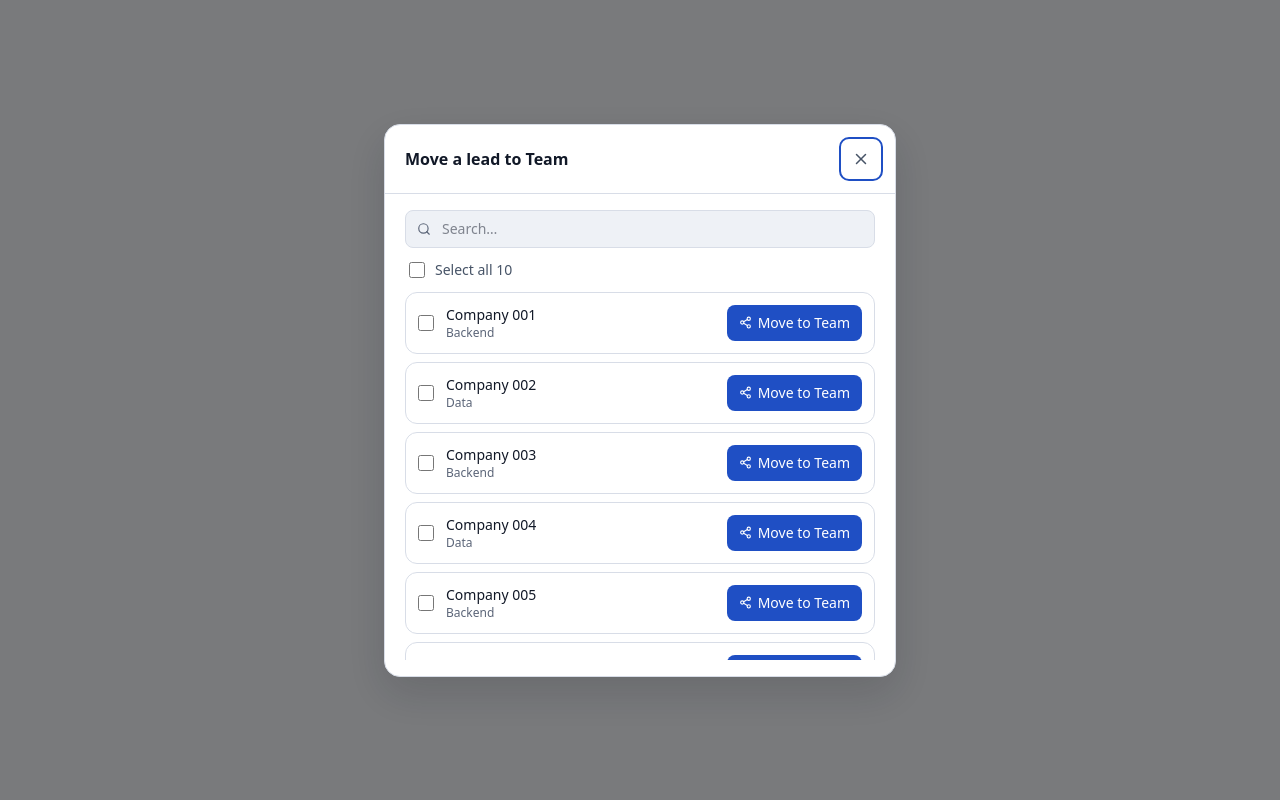
Test: SharePicker: choosing several › ticks survive searching, and "Clear" removes them
Click the checkbox named "Select Company 002". click: [426, 392]
box: [418,384,434,400]
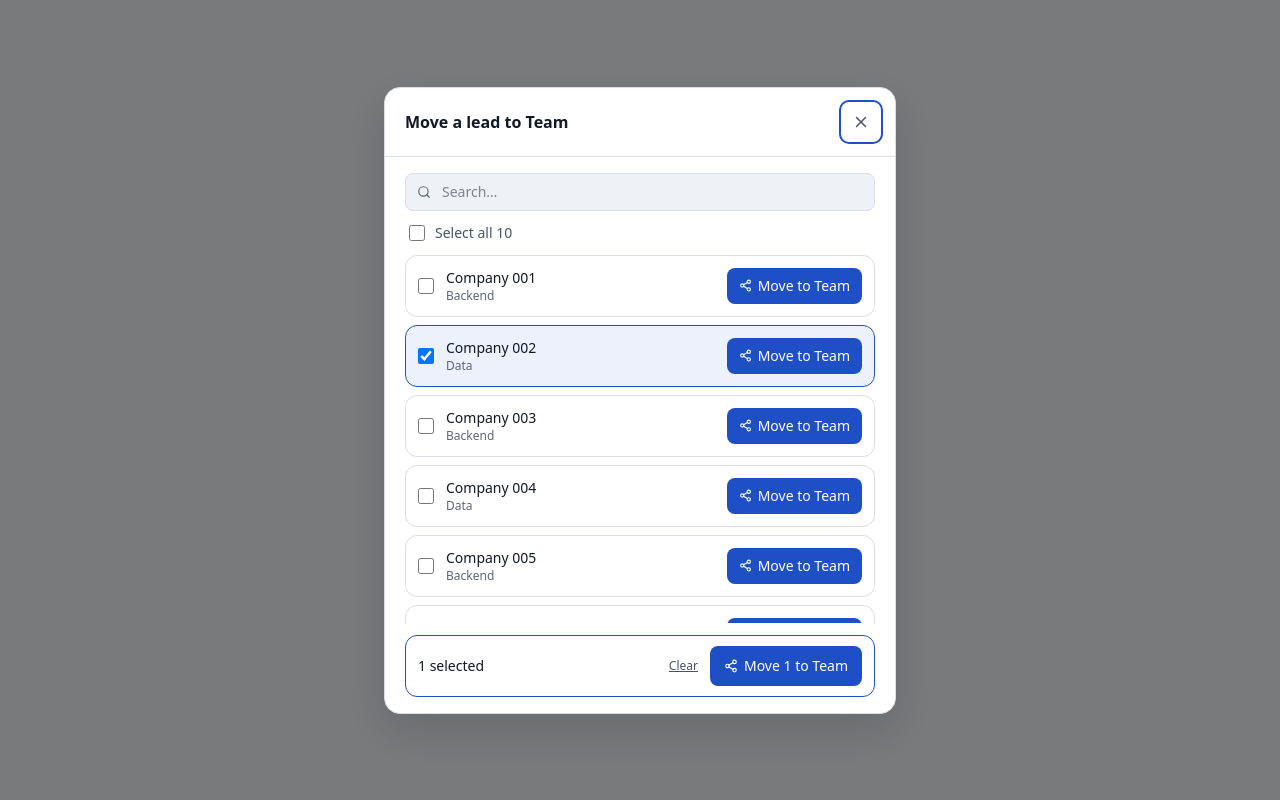
Type "company 009" into the field named "Search records to move". click: [640, 192]
box: [405,172,875,210]
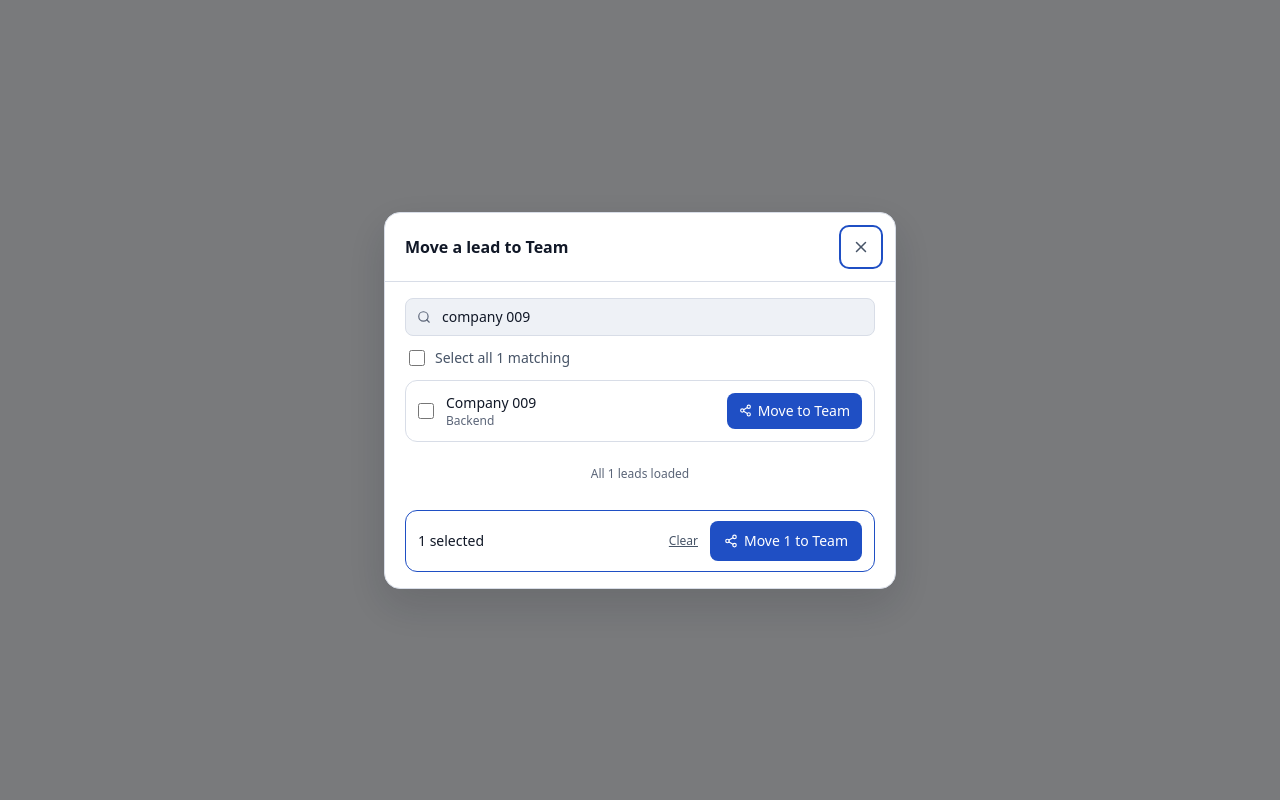
Now the message reads "1 selected", box [418,530,484,550]
Click the button "Clear". click: [683, 540]
box: [669,532,698,548]
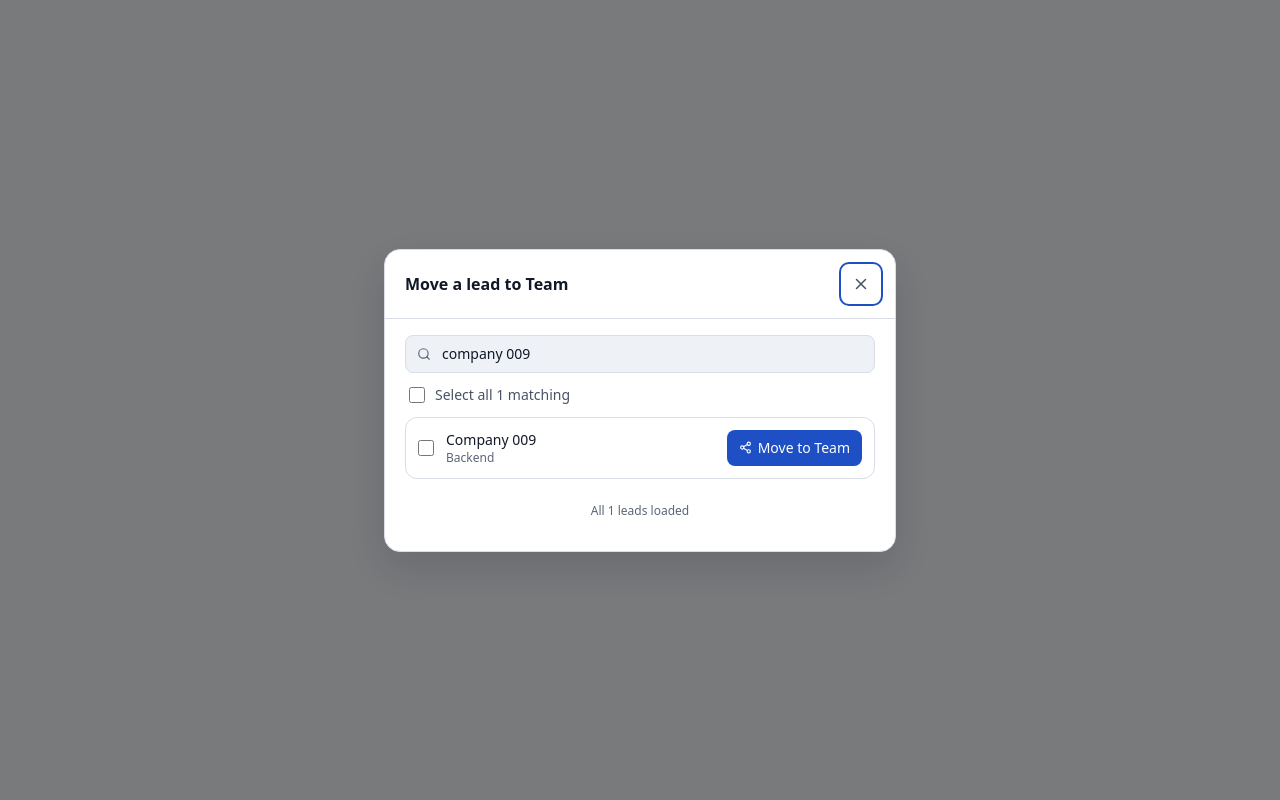
Now the message "1 selected" is gone
